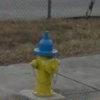Hydrant: (28, 24, 60, 100)
